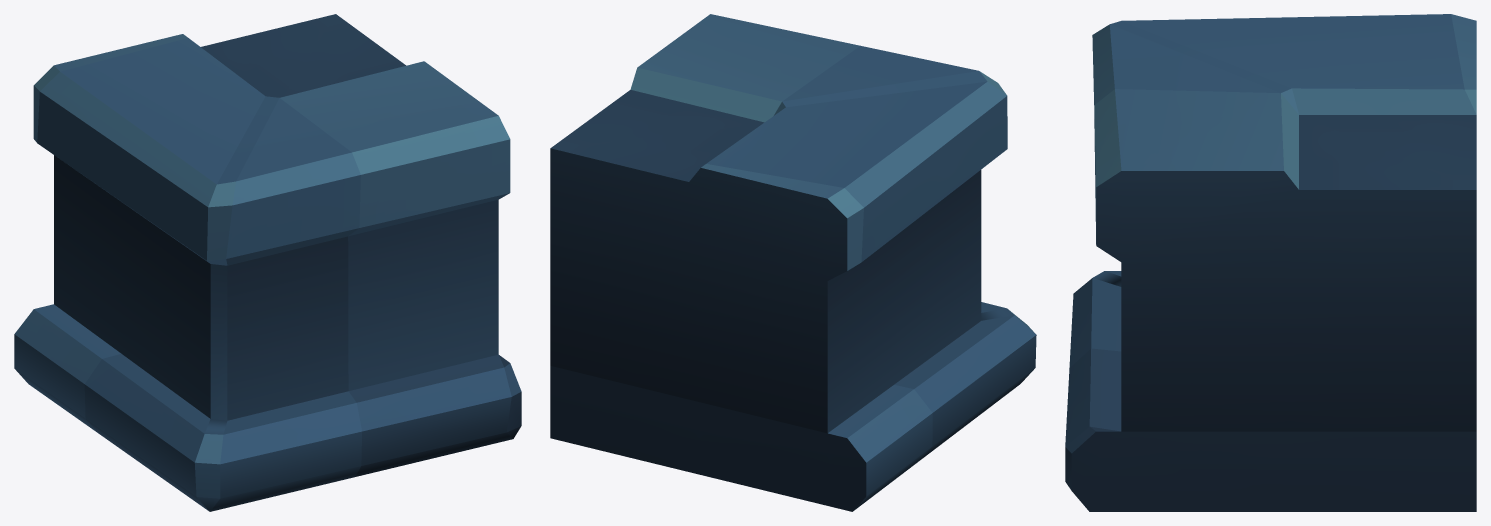
File: wall_small_corner_convex.fbx
The picture shows the model from 3 angles, left to right: view 1: azimuth 30°, elevation 25°; view 2: azimuth 150°, elevation 25°; view 3: azimuth 270°, elevation 25°; orthographic projection. The views are drawn at different scales.
Visible parts, largest first — view 1: wall_small_corner_convex; view 2: wall_small_corner_convex; view 3: wall_small_corner_convex.
Part boxes in pixels (x1=…): wall_small_corner_convex: x1=14, y1=14, x2=521, y2=511; wall_small_corner_convex: x1=550, y1=14, x2=1036, y2=511; wall_small_corner_convex: x1=1065, y1=14, x2=1476, y2=511.
Bounding box in the file's own units: 114 × 107 × 116.
